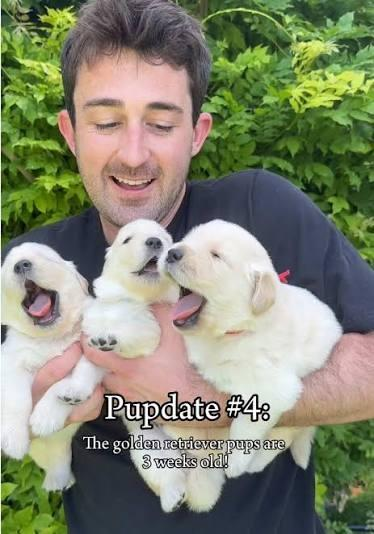non-dog: (4, 0, 374, 534)
puppy-dog: (164, 218, 346, 513), (30, 218, 203, 514), (1, 241, 109, 492)
